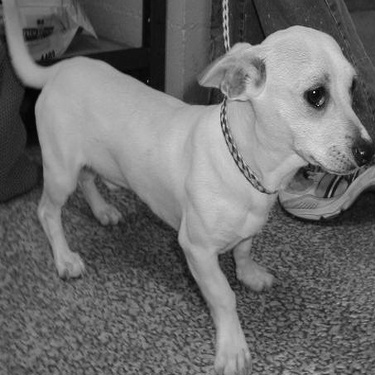dog: (1, 3, 368, 373)
